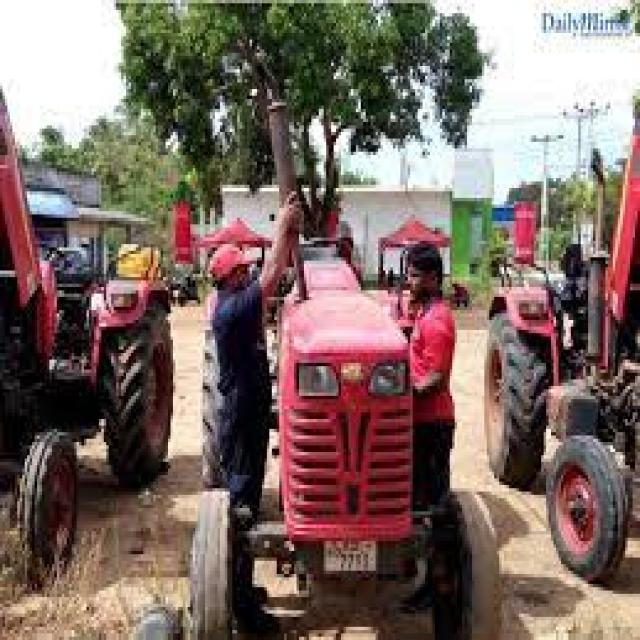person: (210, 191, 297, 525), (408, 244, 452, 508)
tractor: (190, 106, 494, 637), (0, 92, 171, 584), (484, 125, 638, 581)
